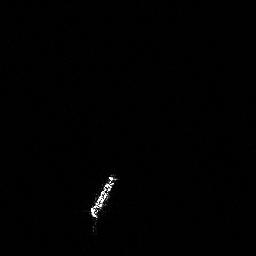ship: (89, 172, 118, 236)
